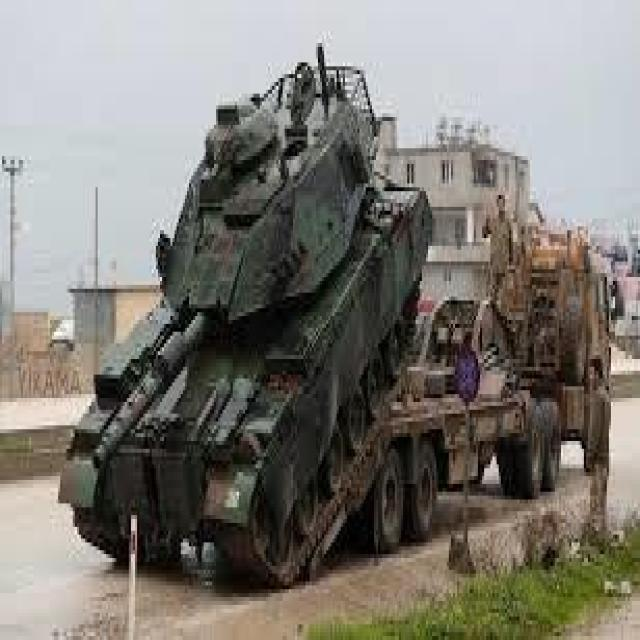MIL_MBT: (49, 70, 415, 562)
